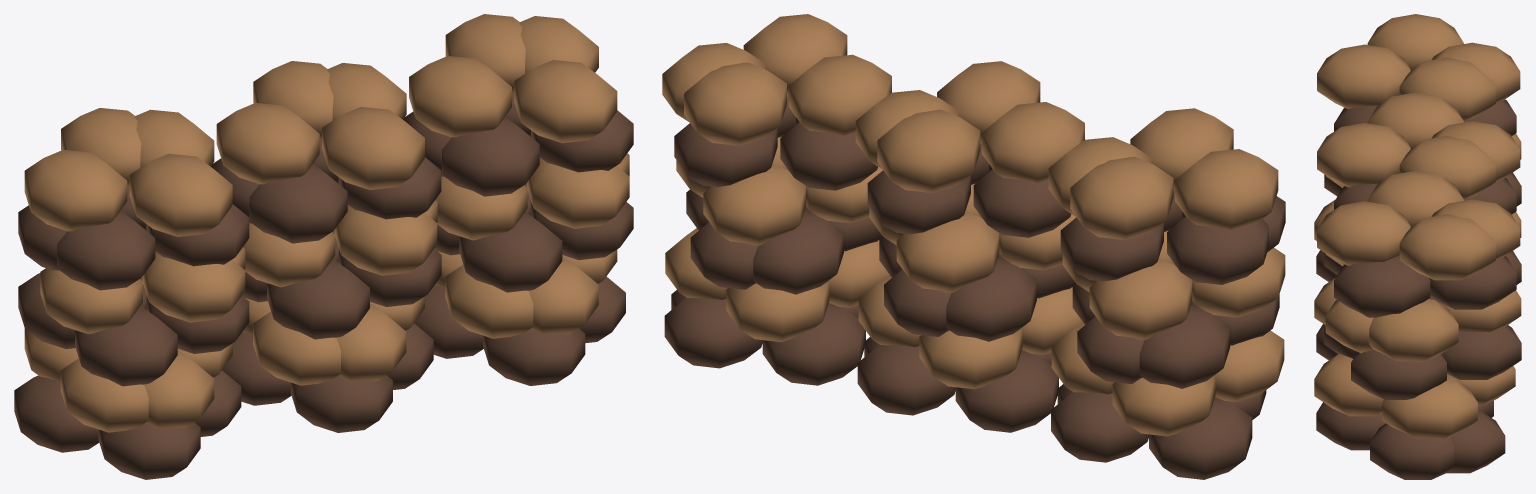
File: almanac-gardens-pinecone-group-1b2a3ec0__22064.glb
3 renders of one model, left to right at view 1: azimuth 30°, elevation 25°; view 2: azimuth 150°, elevation 25°; view 3: azimuth 270°, elevation 25°, orthographic. The views are drawn at different scales.
Parts seen in each view (by area): view 1: pinecone-group-oak, pinecone-group-bark; view 2: pinecone-group-oak, pinecone-group-bark; view 3: pinecone-group-oak, pinecone-group-bark.
Boxes of the visible parts, x1,y1,x2,y2 form: pinecone-group-oak: (24,14,629,432); pinecone-group-bark: (14,93,633,479); pinecone-group-oak: (662,14,1285,436); pinecone-group-bark: (664,96,1285,479); pinecone-group-oak: (1314,14,1521,440); pinecone-group-bark: (1316,99,1521,479).
Size of the model in its own units: 0.455 by 0.225 by 0.1676.
